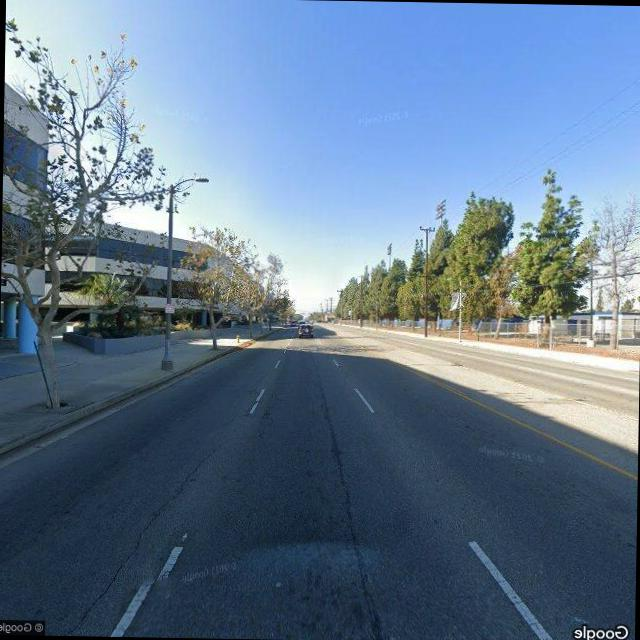pothole: (70, 422, 228, 634)
